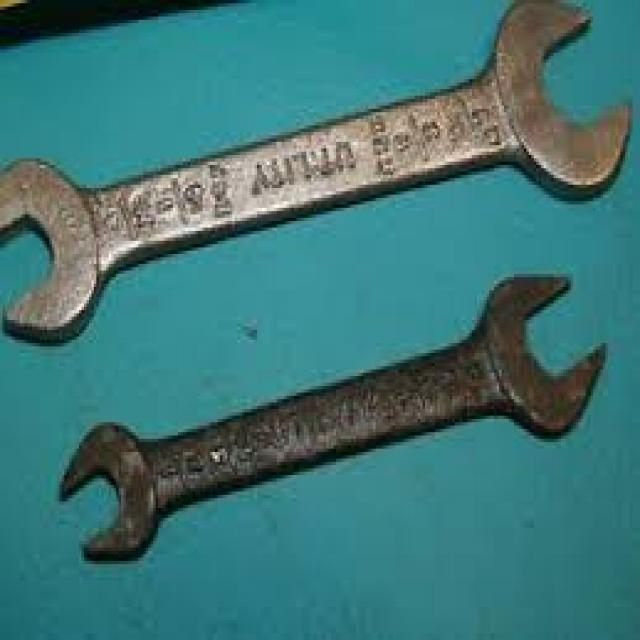wrench: (0, 0, 638, 350), (52, 264, 613, 572)
